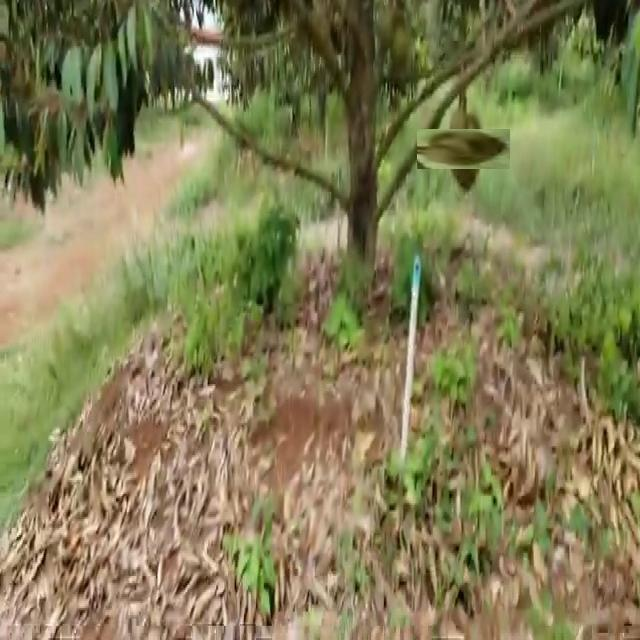durian: (430, 115, 497, 182)
